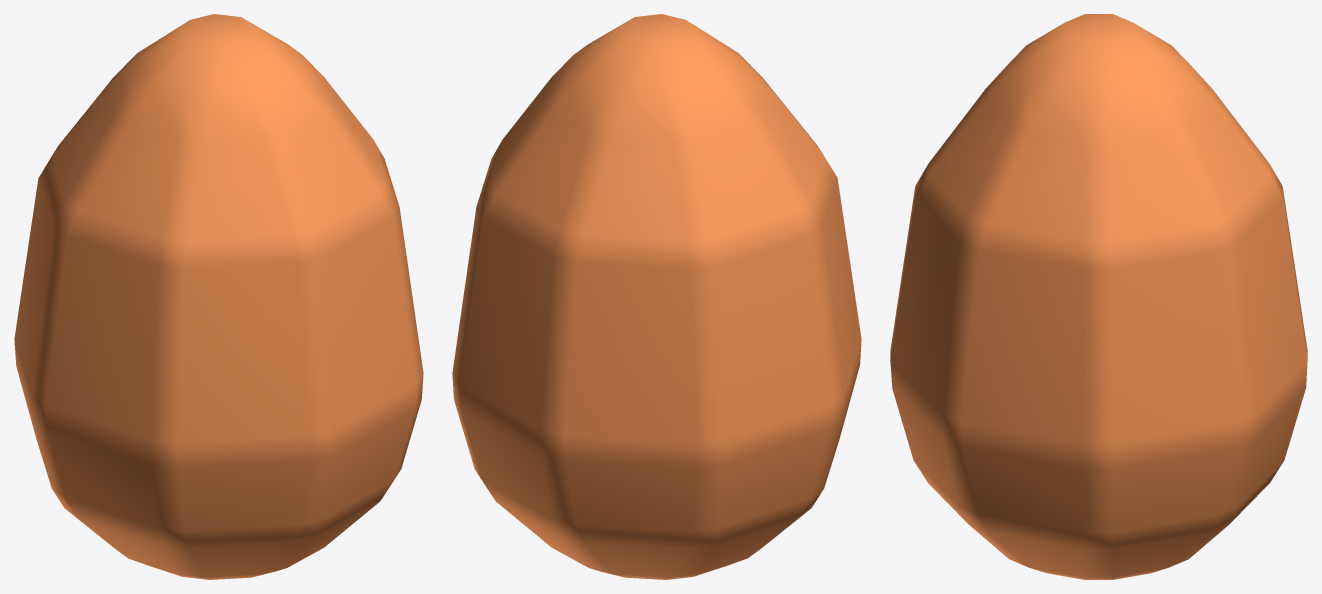
File: Egg.fbx
3 views of the same model, side by side, from view 1: azimuth 30°, elevation 25°; view 2: azimuth 150°, elevation 25°; view 3: azimuth 270°, elevation 25° (orthographic).
Visible parts, largest first — view 1: pSphere1; view 2: pSphere1; view 3: pSphere1.
Part boxes in pixels (left/top/right/bottom): pSphere1: left=14, top=14, right=423, bottom=579; pSphere1: left=452, top=14, right=861, bottom=579; pSphere1: left=890, top=14, right=1307, bottom=579.
Size of the model in its own units: 1.93 by 2.69 by 1.93.
